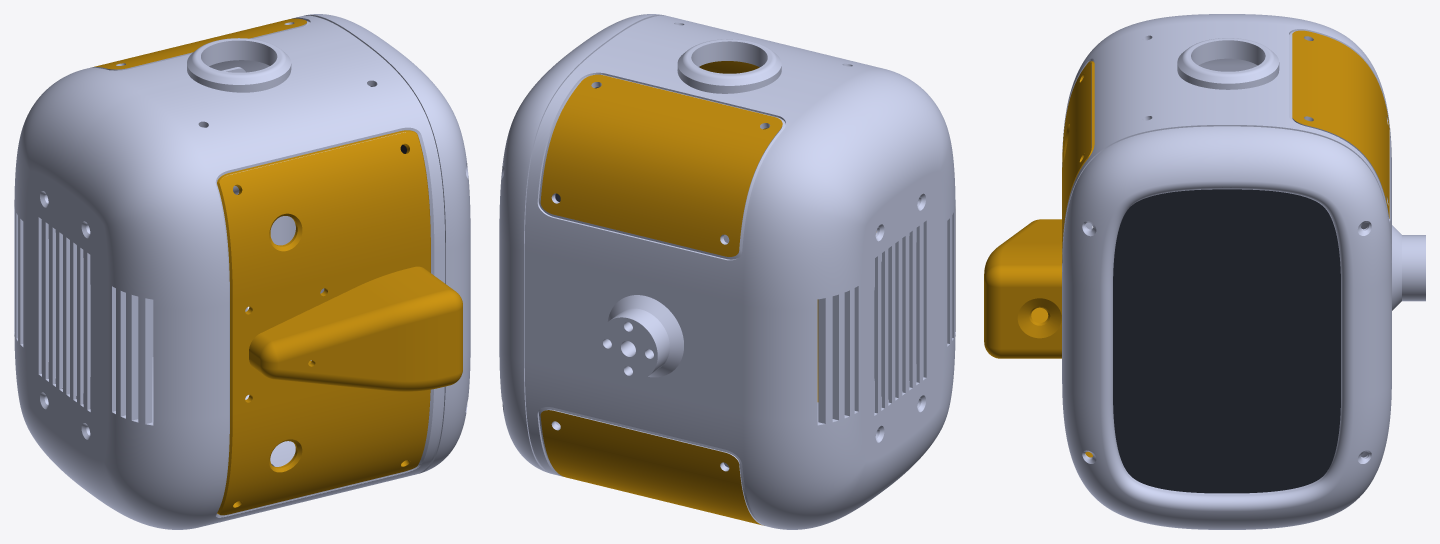
Rendered from qB-Head.obj.
The picture shows the model from 3 angles, left to right: view 1: azimuth 30°, elevation 25°; view 2: azimuth 150°, elevation 25°; view 3: azimuth 270°, elevation 25°; orthographic projection. The views are drawn at different scales.
Parts seen in each view (by area): view 1: Head, TopCover, FrontCover; view 2: Head, FrontCover, TopCover; view 3: Face, FrontCover, Head, TopCover.
Part boxes in pixels (left/top/right/bottom): Head: left=14, top=15, right=442, bottom=529; TopCover: left=217, top=130, right=462, bottom=515; FrontCover: left=277, top=14, right=470, bottom=473; Head: left=527, top=15, right=955, bottom=529; FrontCover: left=499, top=14, right=665, bottom=473; TopCover: left=699, top=61, right=818, bottom=401; Face: left=1113, top=189, right=1340, bottom=493; FrontCover: left=1062, top=126, right=1391, bottom=529; Head: left=1062, top=14, right=1425, bottom=457; TopCover: left=984, top=61, right=1094, bottom=457.
Size of the model in its own units: 112 by 138 by 130.
